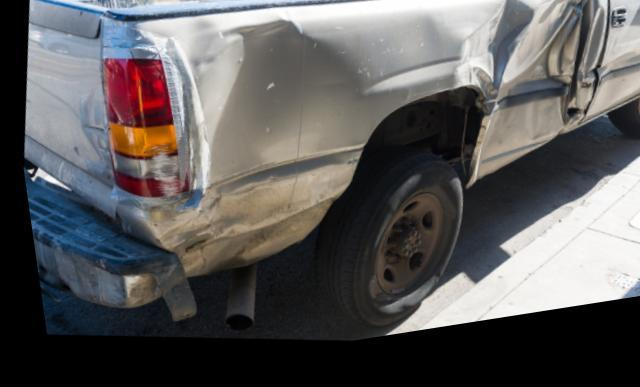dent: (147, 4, 585, 275), (591, 46, 640, 129), (571, 27, 603, 128)
scratch: (142, 145, 173, 204)
